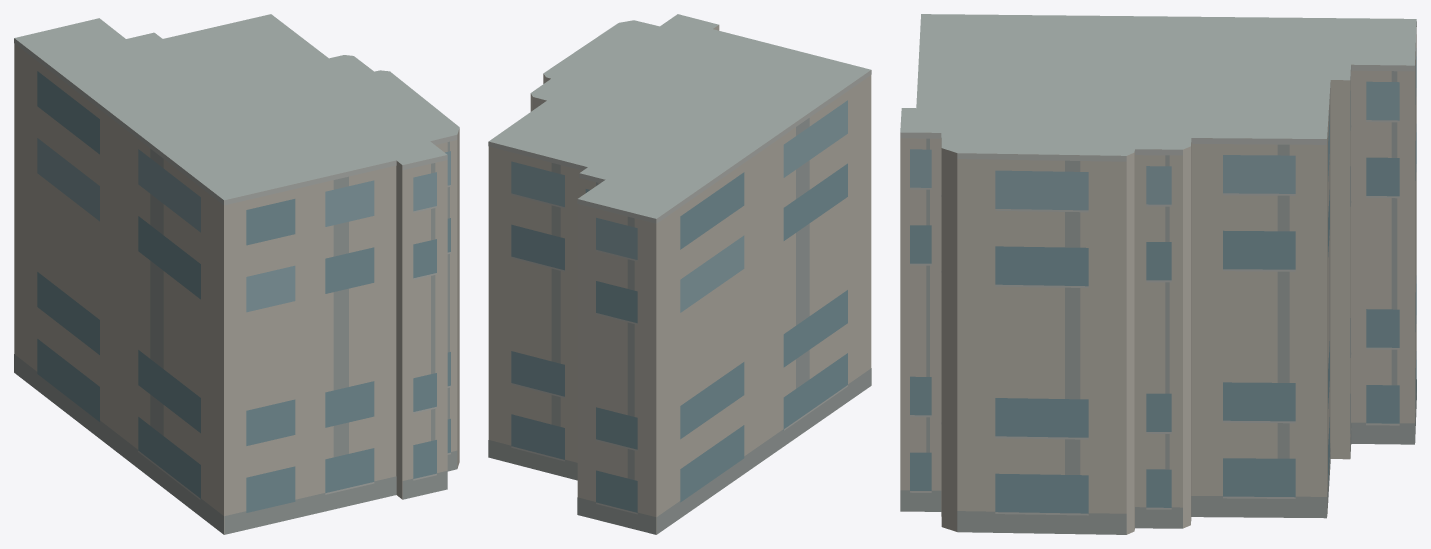
Rendered from survey-upis-32470163.glb.
The picture shows the model from 3 angles, left to right: view 1: azimuth 30°, elevation 25°; view 2: azimuth 150°, elevation 25°; view 3: azimuth 270°, elevation 25°; orthographic projection. The views are drawn at different scales.
Visible parts, largest first — view 1: survey-upis-32470163.tmp; view 2: survey-upis-32470163.tmp; view 3: survey-upis-32470163.tmp.
Boxes of the visible parts, x1,y1,x2,y2 form: survey-upis-32470163.tmp: [14, 14, 459, 534]; survey-upis-32470163.tmp: [488, 14, 871, 534]; survey-upis-32470163.tmp: [900, 14, 1416, 534].
Size of the model in its own units: 12.69 by 15.8 by 19.53.
